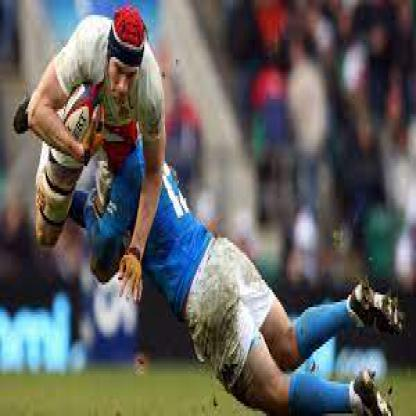Fall_Down: (29, 7, 167, 303)
